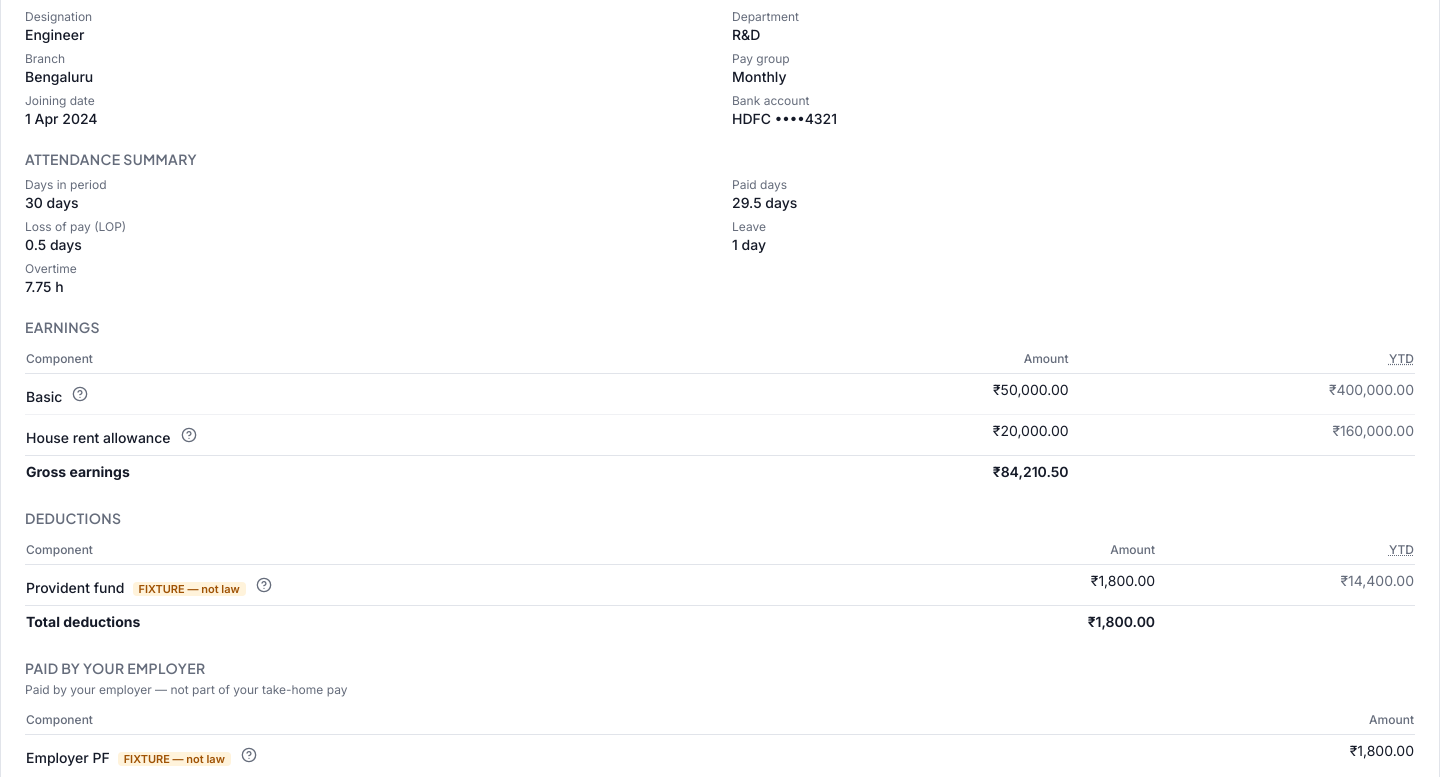
Payslips (HR) › explains an amount from the run trace when the viewer can read pay runs
(page scrolled)
Click the button named "Why this amount? Basic" at coordinates (80, 394), box [66,380,94,408]
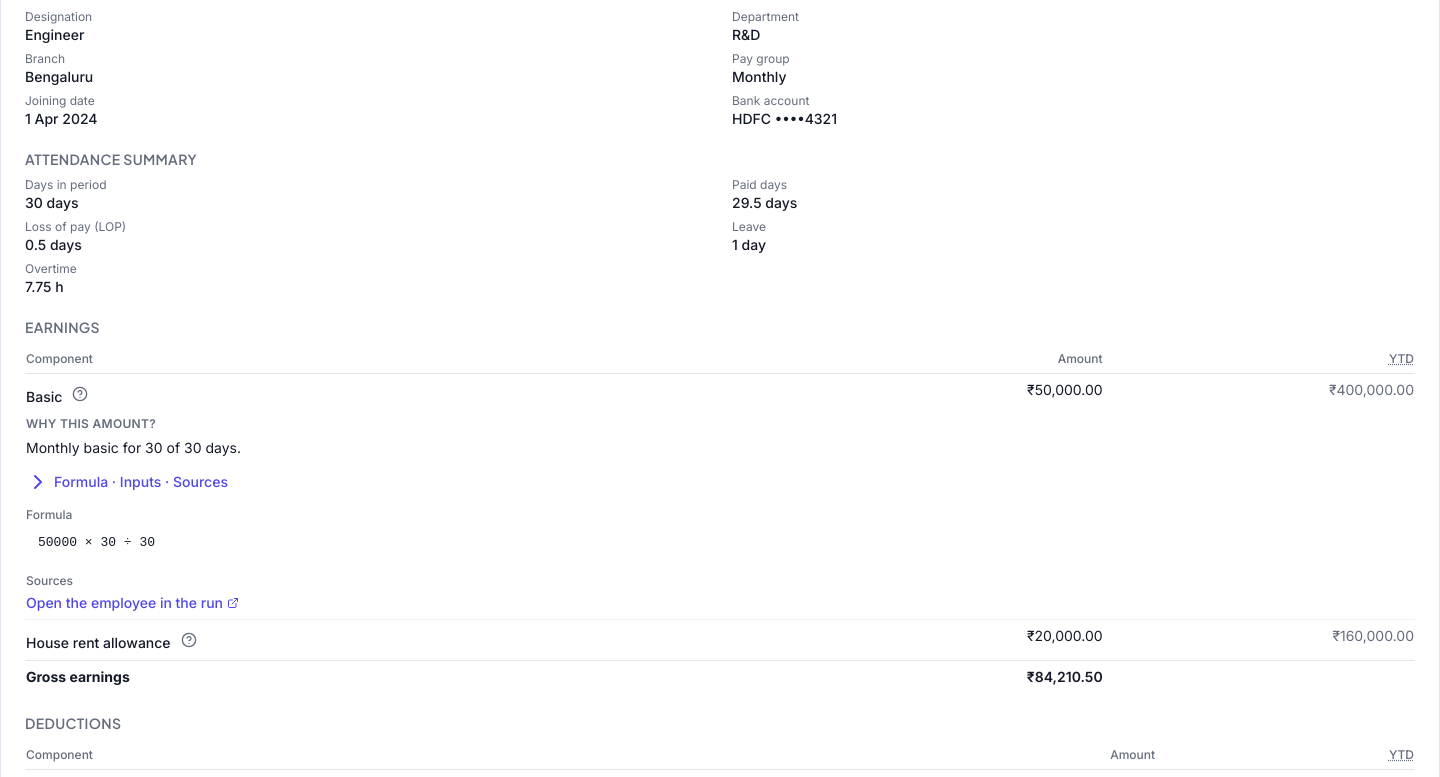
Check: the text "Monthly basic for 30 of 30 days." is shown, box [26,439,241,456]
Check: the text "50000 × 30 ÷ 30" is shown, box [38,535,155,550]
